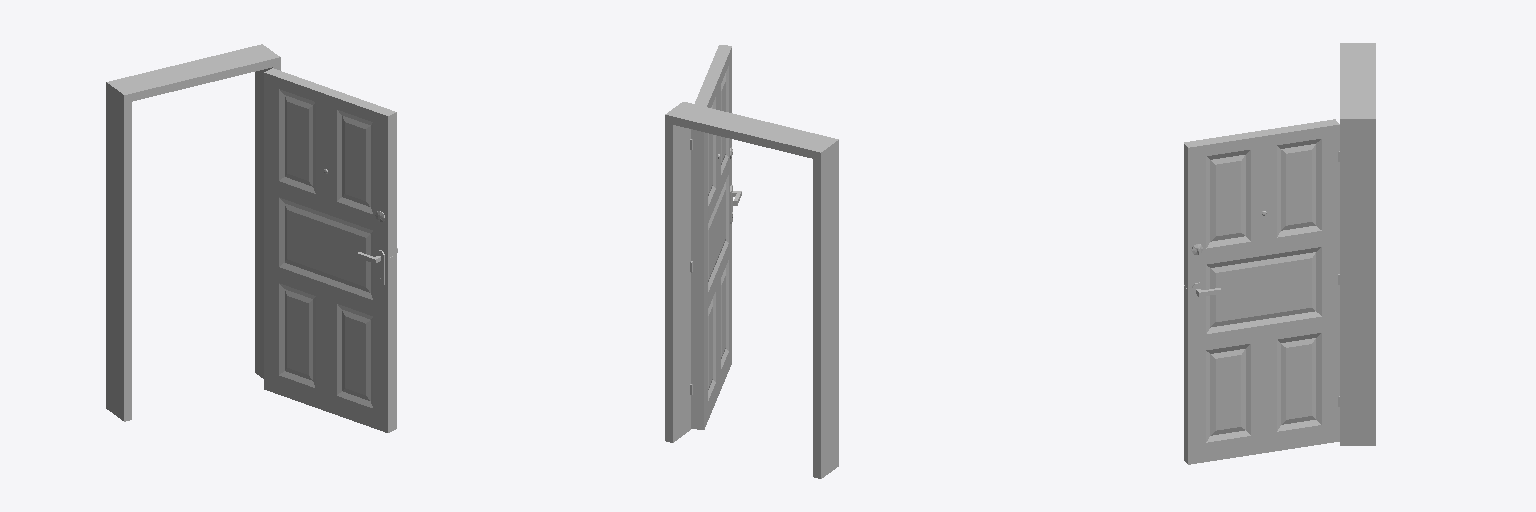
File: pcity_nodes_doors_front_1_open.obj
The picture shows the model from 3 angles: view 1: azimuth 30°, elevation 25°; view 2: azimuth 150°, elevation 25°; view 3: azimuth 270°, elevation 25°; orthographic projection.
Visible parts, largest first — view 1: Doors_wood, Frame; view 2: Frame, Doors_wood; view 3: Doors_wood, Frame.
Boxes of the visible parts, x1=… form: Doors_wood: x1=264, y1=68, x2=396, y2=432; Frame: x1=106, y1=44, x2=280, y2=421; Frame: x1=665, y1=102, x2=838, y2=478; Doors_wood: x1=691, y1=45, x2=731, y2=429; Doors_wood: x1=1184, y1=119, x2=1339, y2=464; Frame: x1=1340, y1=43, x2=1375, y2=445.
Bounding box in the file's own units: 2.6 × 4 × 2.14.